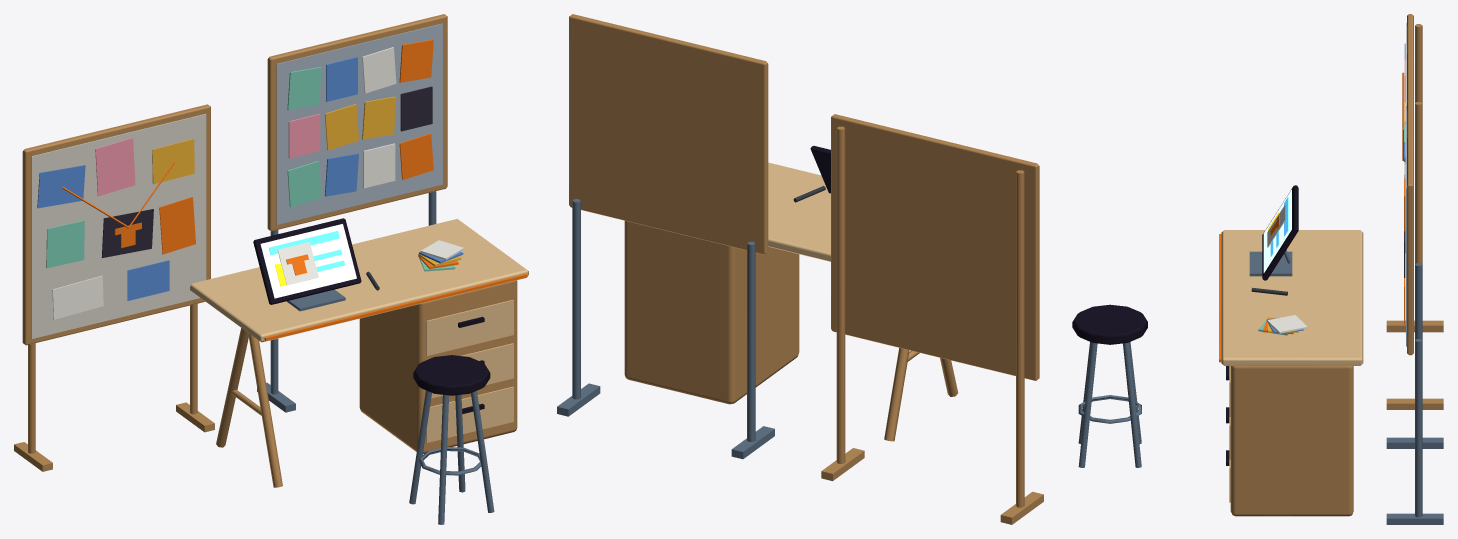
File: station_intake_2.glb
3 renders of one model, left to right at view 1: azimuth 30°, elevation 25°; view 2: azimuth 150°, elevation 25°; view 3: azimuth 270°, elevation 25°, orthographic. The views are drawn at different scales.
Visible parts, largest first — view 1: station_intake_2; view 2: station_intake_2; view 3: station_intake_2.
Boxes of the visible parts, x1=… form: station_intake_2: x1=14, y1=14, x2=528, y2=524; station_intake_2: x1=557, y1=14, x2=1043, y2=524; station_intake_2: x1=1072, y1=14, x2=1443, y2=524.
Bounding box in the file's own units: 2.04 × 1.6 × 1.57.
